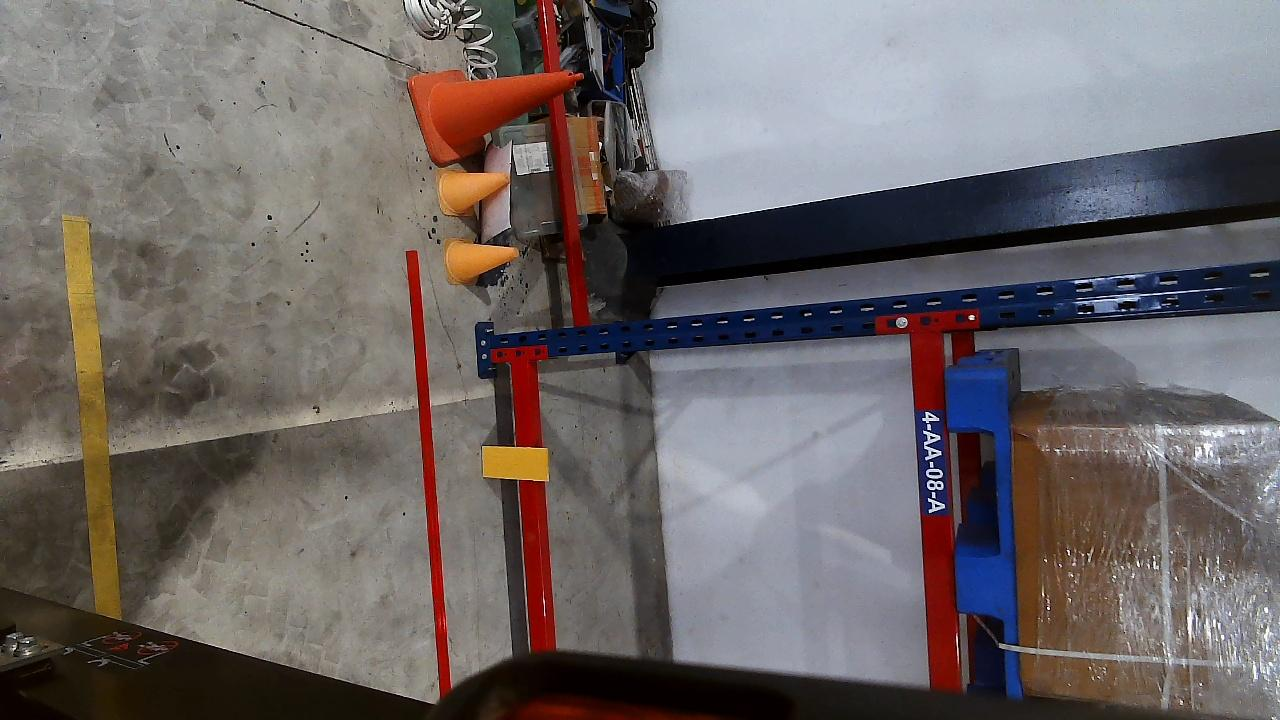h_rack: (907, 327, 963, 689), (509, 359, 555, 650)
orange_strip: (482, 446, 550, 480)
red_line: (409, 250, 452, 694)
small_pallet: (947, 373, 1020, 692)
yellow_line: (59, 217, 120, 619)
